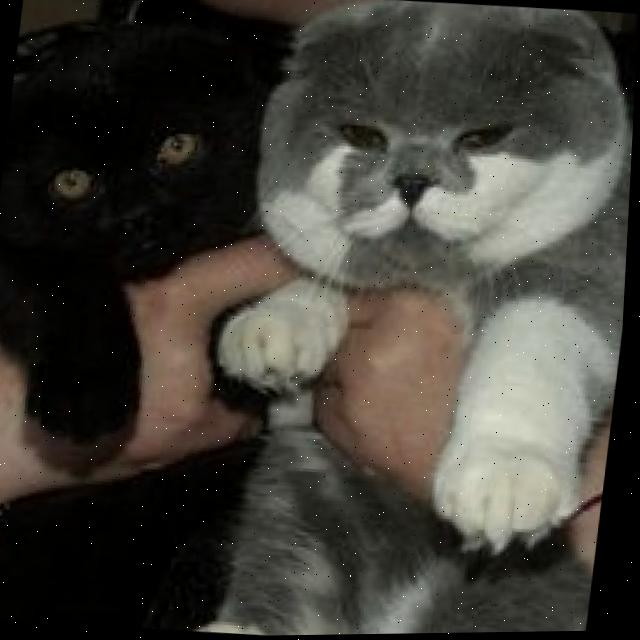Scottish Fold: (189, 0, 640, 637), (0, 0, 283, 635)
